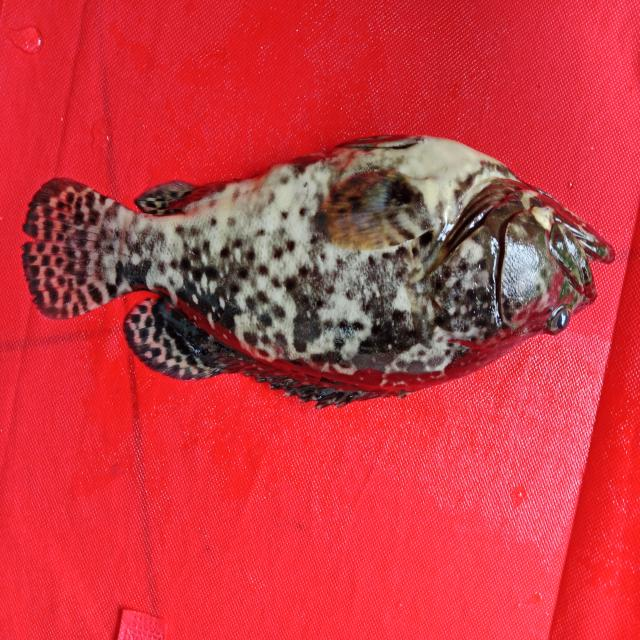ikan: (11, 120, 628, 420)
